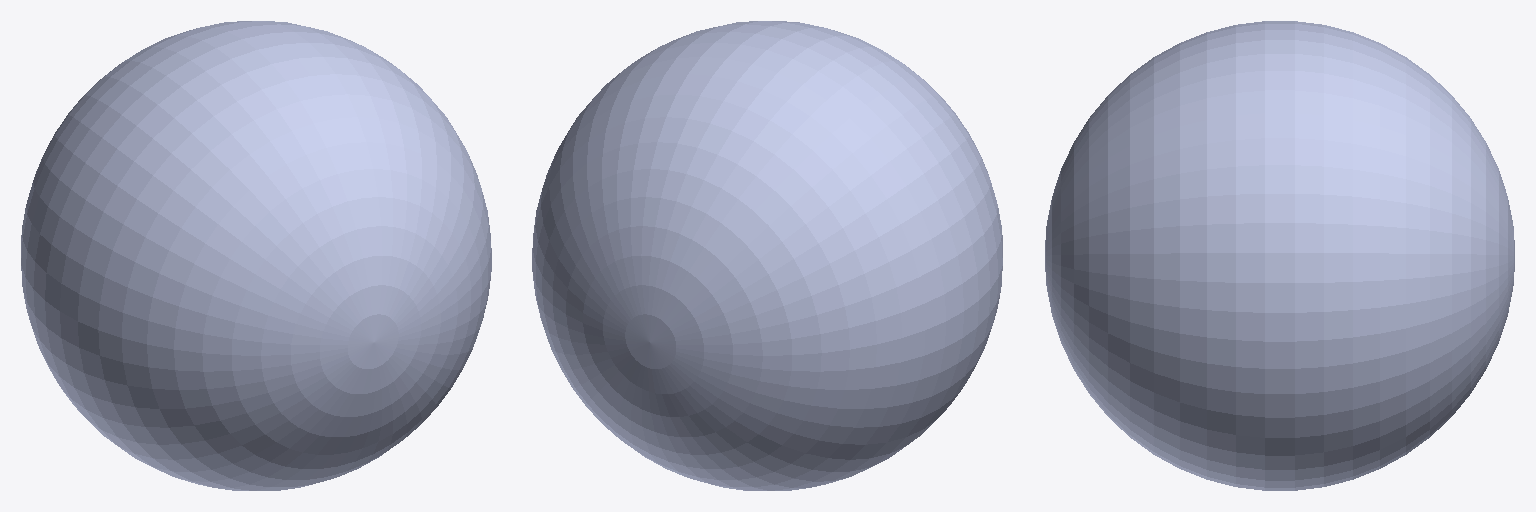
robot.urdf — sphere:
<robot
  name="sphere">
  <link
    name="sphere">
    <inertial>
      <origin
        xyz="1.0477E-18 0 0"
        rpy="0 0 0" />
      <mass
        value="0.39793" />
      <inertia
        ixx="0.000331396859357051"
        ixy="0"
        ixz="0"
        iyy="0.000331396859357051"
        iyz="0"
        izz="0.000331396859357051" />
    </inertial>
    <visual>
      <origin
        xyz="0 0 0"
        rpy="1.5707963267949 0 0" />
      <geometry>
        <mesh
          filename="package://sawyer_gazebo_env/models/sphere/sphere.STL" />
      </geometry>
      <material
        name="">
        <color
          rgba="0.79216 0.81961 0.93333 1" />
      </material>
    </visual>
    <collision>
      <origin
        xyz="0 0 0"
        rpy="1.5707963267949 0 0" />
      <geometry>
        <mesh
          filename="package://sawyer_gazebo_env/models/sphere/sphere.STL" />
      </geometry>
    </collision>
  </link>
      <gazebo reference="sphere">
      <material>Gazebo/Red</material>
      <mu1>1000</mu1>
      <mu2>1000</mu2>
  </gazebo>
</robot>

--- What the picture shows (computed from the rendered views, not written in the file) ---
3 views of the same robot in one strip: view 1: azimuth 30°, elevation 25°; view 2: azimuth 150°, elevation 25°; view 3: azimuth 270°, elevation 25° (orthographic).
Robot: sphere — 1 links, 0 joints (none); root link sphere; default pose: every joint at zero.
Links seen in each view (by area): view 1: sphere; view 2: sphere; view 3: sphere.
Boxes of the visible links, <box> form: sphere: <box>21,21,491,490</box>; sphere: <box>532,21,1002,490</box>; sphere: <box>1045,21,1514,490</box>.
Bounding box of the posed robot: 0.091 × 0.0913 × 0.091 m (x, y, z).
Meshes: 1 distinct files referenced, 1 mesh visuals loaded (1 binary STL).